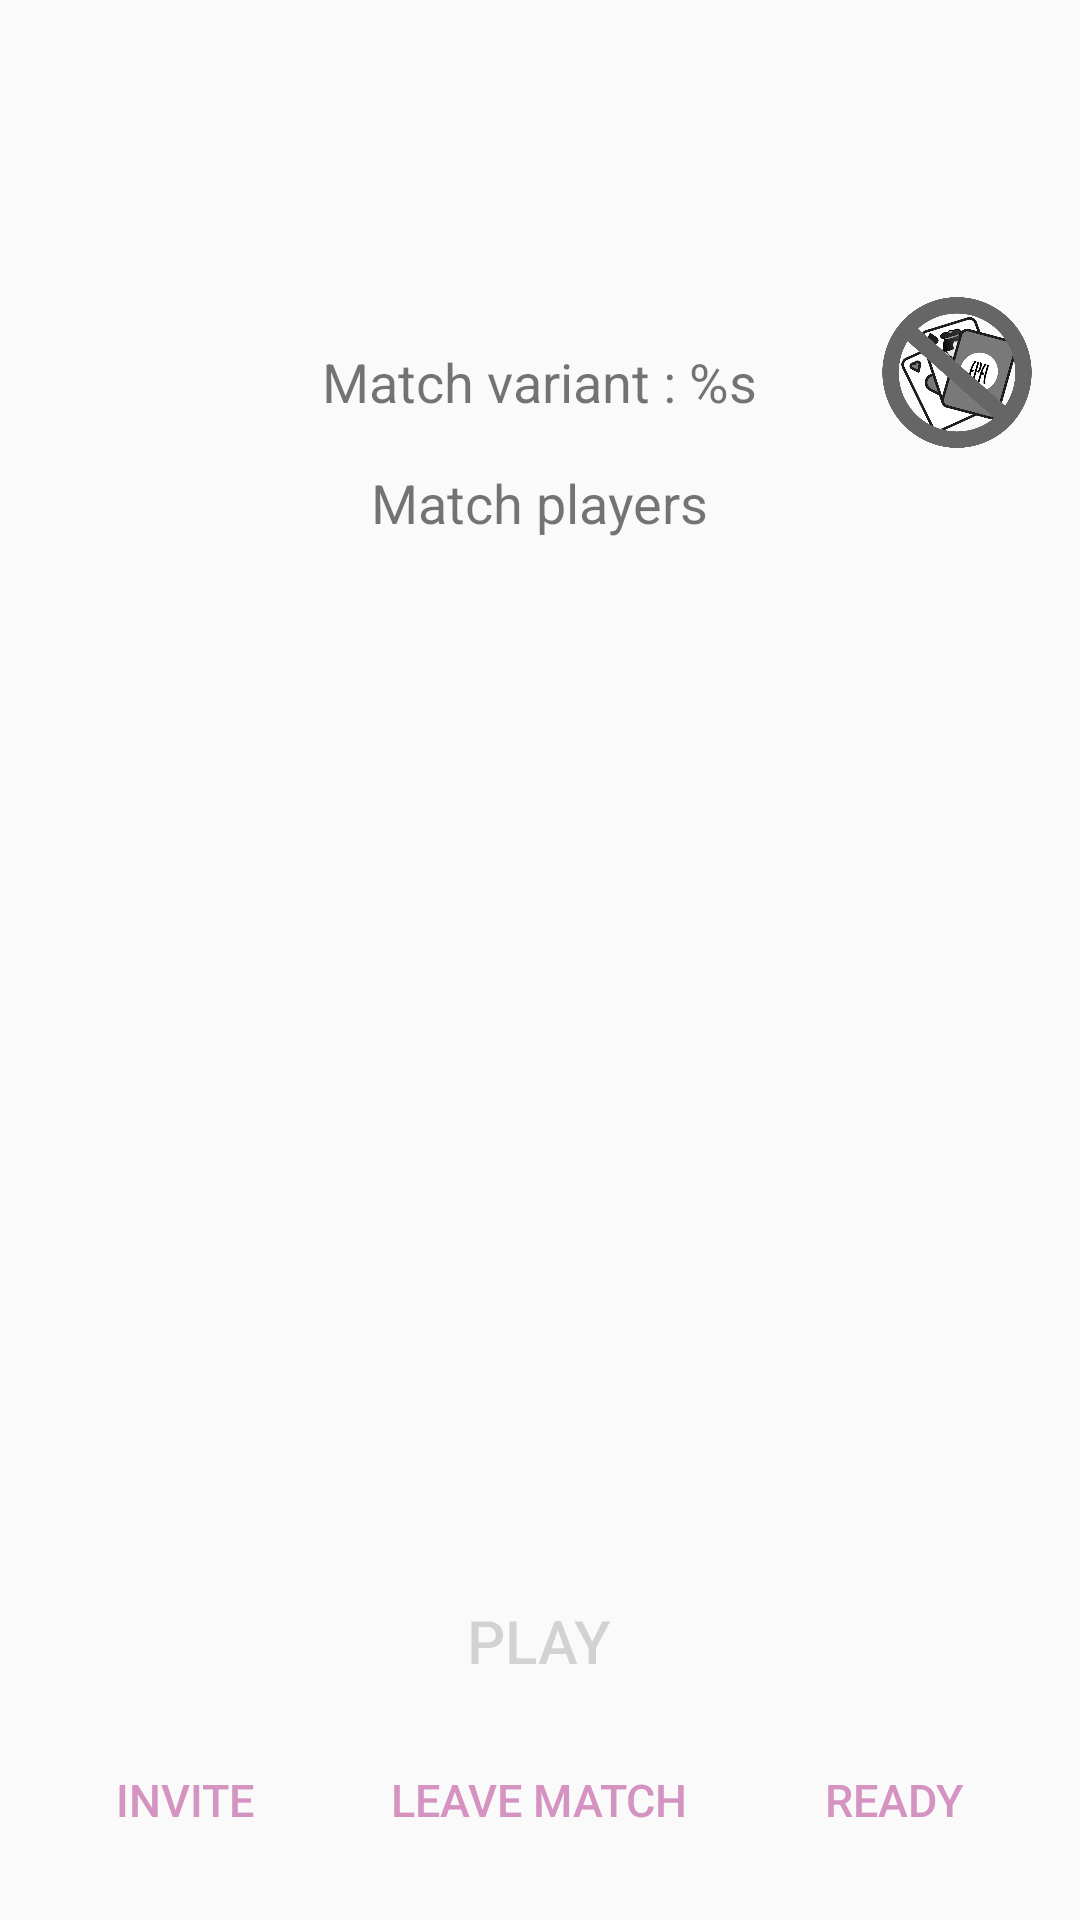

Locate icon controls on the screen. Image size 1080px x 1920px, boxes as (x1, y1, x2, y2).
Displays no card image: (882, 297, 1032, 448)
